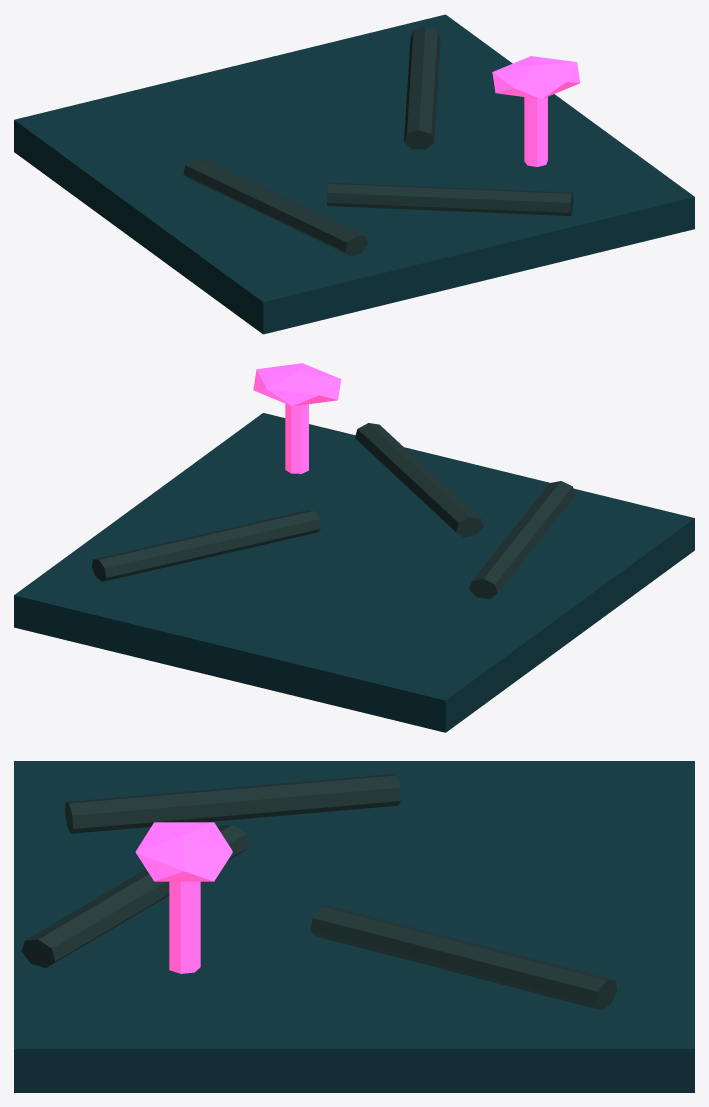
The model's file is df_v2_swamp_water_tile_a.glb.
The picture shows the model from 3 angles, top to bottom: view 1: azimuth 30°, elevation 25°; view 2: azimuth 150°, elevation 25°; view 3: azimuth 270°, elevation 25°; orthographic projection. The views are drawn at different scales.
Parts seen in each view (by area): view 1: chunky_floor_slab, surface_root_2, surface_root_0, surface_root_1, tiny_edge_glow_cap, tiny_edge_glow_stem; view 2: chunky_floor_slab, surface_root_1, surface_root_2, surface_root_0, tiny_edge_glow_cap, tiny_edge_glow_stem; view 3: chunky_floor_slab, surface_root_0, surface_root_1, surface_root_2, tiny_edge_glow_cap, tiny_edge_glow_stem.
Boxes of the visible parts, x1=… form: chunky_floor_slab: x1=14, y1=14, x2=694, y2=334; surface_root_2: x1=326, y1=182, x2=573, y2=215; surface_root_0: x1=183, y1=158, x2=367, y2=256; surface_root_1: x1=404, y1=26, x2=440, y2=149; tiny_edge_glow_cap: x1=492, y1=56, x2=580, y2=99; tiny_edge_glow_stem: x1=524, y1=97, x2=547, y2=166; chunky_floor_slab: x1=14, y1=413, x2=694, y2=732; surface_root_1: x1=91, y1=510, x2=321, y2=581; surface_root_2: x1=355, y1=423, x2=483, y2=537; surface_root_0: x1=469, y1=481, x2=575, y2=599; tiny_edge_glow_cap: x1=253, y1=363, x2=341, y2=406; tiny_edge_glow_stem: x1=285, y1=404, x2=308, y2=473; chunky_floor_slab: x1=14, y1=761, x2=694, y2=1092; surface_root_0: x1=65, y1=774, x2=400, y2=833; surface_root_1: x1=310, y1=906, x2=617, y2=1010; surface_root_2: x1=21, y1=824, x2=249, y2=967; tiny_edge_glow_cap: x1=135, y1=822, x2=232, y2=881; tiny_edge_glow_stem: x1=169, y1=881, x2=200, y2=973.
Size of the model in its own units: 1.12 by 0.3518 by 1.12.
